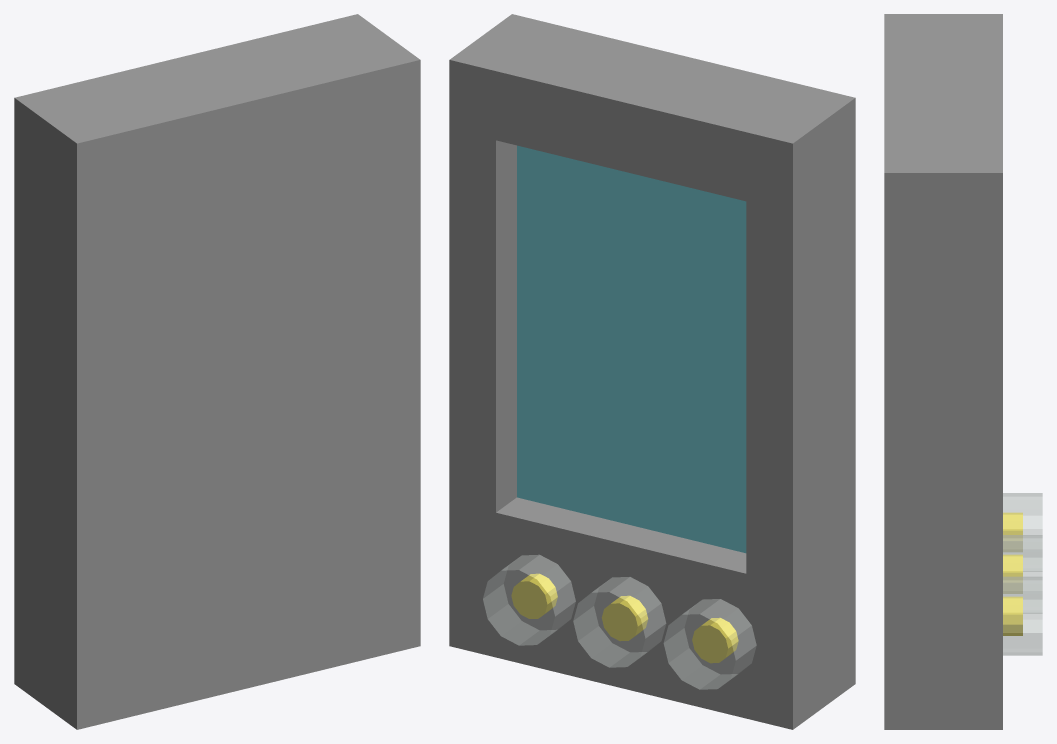
Rendered from Scanner.fbx.
3 renders of one model, left to right at view 1: azimuth 30°, elevation 25°; view 2: azimuth 150°, elevation 25°; view 3: azimuth 270°, elevation 25°, orthographic. The views are drawn at different scales.
Parts seen in each view (by area): view 1: Scanner; view 2: Scanner; view 3: Scanner.
Boxes of the visible parts, x1,y1,x2,y2 form: Scanner: (14, 14, 420, 729); Scanner: (449, 14, 855, 729); Scanner: (884, 14, 1042, 729).
Bounding box in the file's own units: 19 × 31 × 8.
